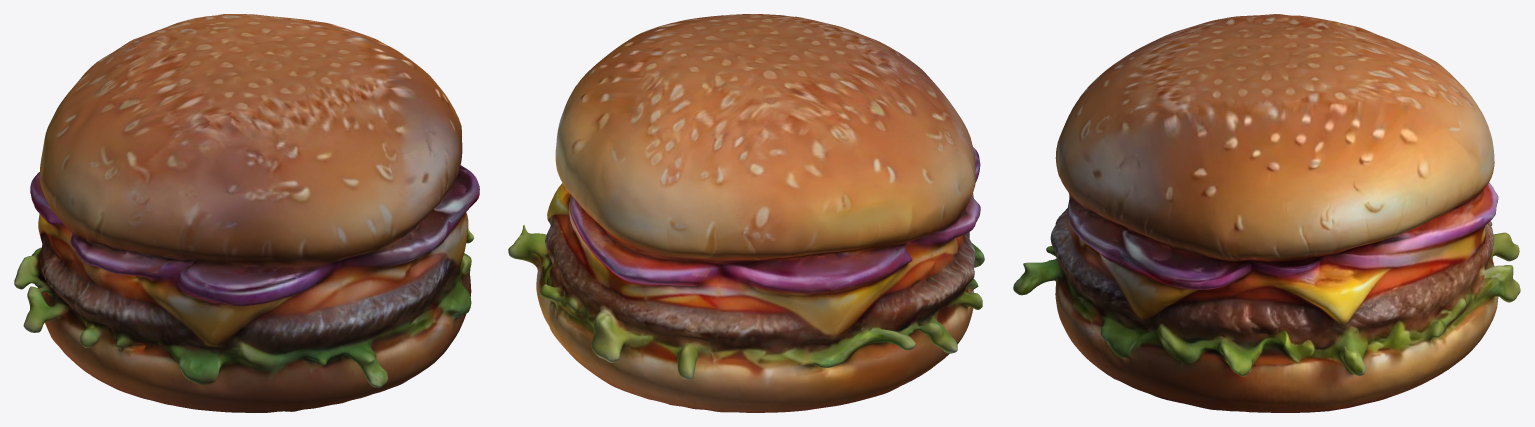
The model's file is hamburger_photorealistic.glb.
3 renders of one model, left to right at view 1: azimuth 30°, elevation 25°; view 2: azimuth 150°, elevation 25°; view 3: azimuth 270°, elevation 25°, orthographic.
Visible parts, largest first — view 1: Object_4; view 2: Object_4; view 3: Object_4.
Part boxes in pixels (x1=…): Object_4: x1=14, y1=14, x2=479, y2=412; Object_4: x1=508, y1=14, x2=984, y2=412; Object_4: x1=1013, y1=14, x2=1520, y2=412.
Bounding box in the file's own units: 0.7554 × 0.5166 × 0.7808.
Materials: 1 (1 with a texture image).
